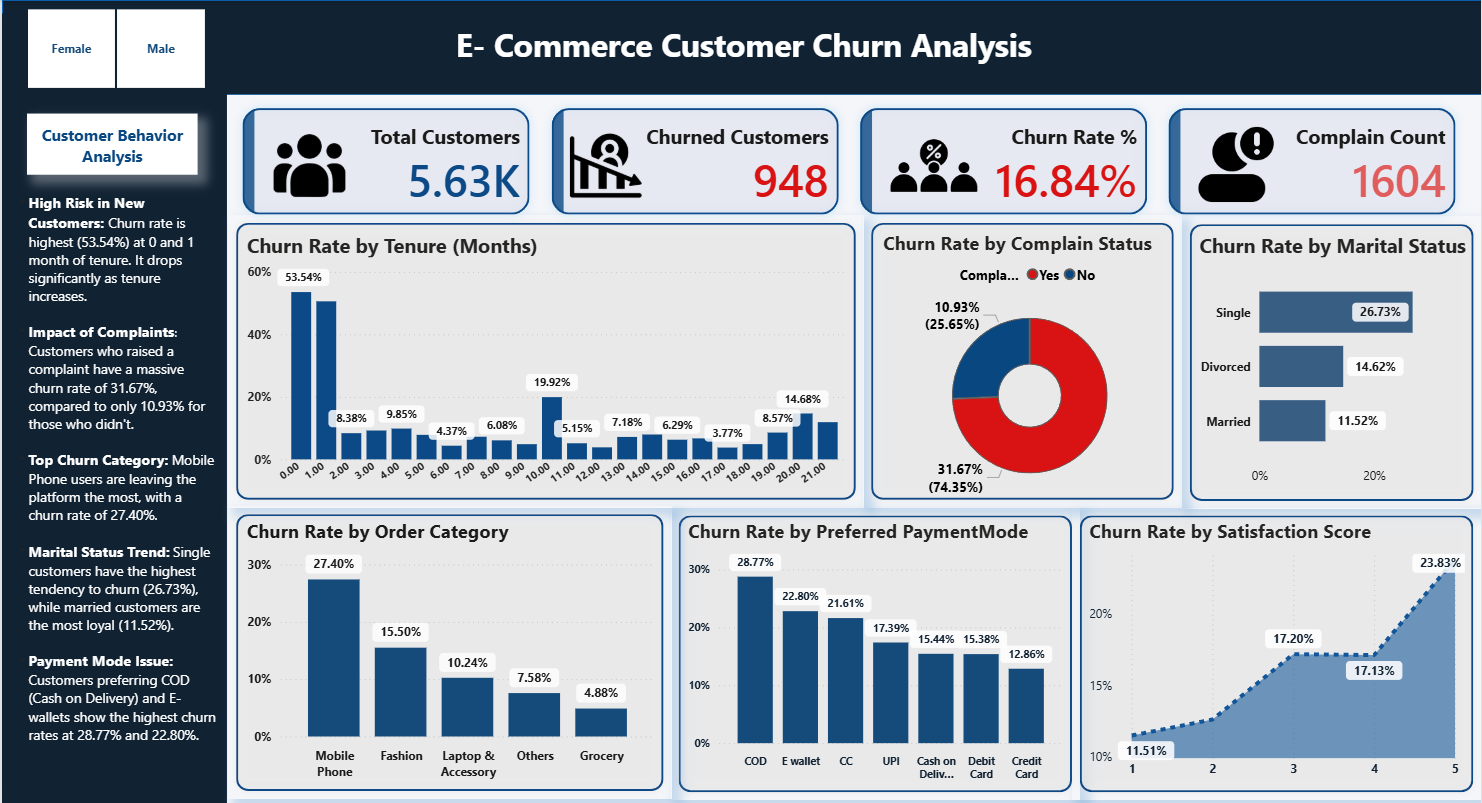

The dashboard page shown, as its layout file describes it:
{"tool":"powerbi","page":{"name":"Overview & Demographics","canvas":[1500,820],"ordinal":0},"visuals":[{"type":"shape","box":[0,0,1599.9,96.4],"z":0},{"type":"shape","box":[0,13.7,228.1,806.5],"z":1000},{"type":"textbox","box":[455.1,19,741.7,59.6],"z":2000},{"type":"cardVisual","fields":{"Data":["CountNonNull(E_Commerce.CustomerID)","Sum(E_Commerce.Churn)","E_Commerce.Churn Rate","Sum(E_Commerce.Complain)"]},"box":[228.1,93.4,1262.7,140.1],"z":3000},{"type":"image","box":[222.1,126.3,179.5,82.6],"z":4000},{"type":"image","box":[546.9,126.4,131.9,82.4],"z":5000},{"type":"image","box":[837.9,118.6,214.3,97.9],"z":6000},{"type":"image","box":[1178.9,115.4,148.4,100.3],"z":7000},{"type":"shape","box":[229.5,218.5,644.4,296.8],"z":8000},{"type":"columnChart","title":"Churn Rate by Tenure (Months)","fields":{"Y":["E_Commerce.Churn Rate"],"Category":["E_Commerce.Tenure"]},"box":[243.2,235,619.7,266.6],"z":9000},{"type":"shape","box":[873.9,218.5,322.9,296.8],"z":10000},{"type":"shape","box":[1196.8,219.8,303.7,296.8],"z":11000},{"type":"donutChart","fields":{"Y":["E_Commerce.Churn Rate"],"Category":["E_Commerce.Column Status"]},"box":[889,233.6,307.8,281.7],"z":12000},{"type":"shape","box":[678.8,515.3,414.9,296.8],"z":13000},{"type":"barChart","title":"Churn Rate by Marital Status","fields":{"Category":["E_Commerce.MaritalStatus"],"Y":["E_Commerce.Churn Rate"]},"box":[1209.1,235,281.7,266.6],"z":14000},{"type":"clusteredColumnChart","fields":{"Category":["E_Commerce.PreferredPaymentMode"],"Y":["E_Commerce.Churn Rate"]},"box":[691.1,526.2,390.2,274.8],"z":15000},{"type":"shape","box":[1085.5,515.3,414.9,296.8],"z":16000},{"type":"shape","box":[229.5,513.9,449.3,296.8],"z":17000},{"type":"lineChart","title":"Churn Rate by Satisfaction Score","fields":{"Category":["E_Commerce.SatisfactionScore"],"Y":["E_Commerce.Churn Rate"]},"box":[1098,526,391,272],"z":18000},{"type":"columnChart","title":"Churn Rate by Order Category","fields":{"Y":["E_Commerce.Churn Rate"],"Category":["E_Commerce.PreferedOrderCat"]},"box":[243.2,526.2,424.6,272.1],"z":19000},{"type":"slicer","fields":{"Values":["E_Commerce.Gender"]},"box":[0,2.7,229.5,93.4],"z":20000},{"type":"textbox","box":[4.1,189.6,218.5,622.4],"z":21000},{"type":"actionButton","box":[24.7,115.4,173.1,61.8],"z":21001}]}

Visuals, with their boxes in screenshot pixels (x1, y1, x2, y2), scaled from the page's 1500x820 canvas onto the 1482x803 screenshot:
shape: {"x1": 0, "y1": 0, "x2": 1481, "y2": 94}
shape: {"x1": 0, "y1": 13, "x2": 225, "y2": 802}
textbox: {"x1": 450, "y1": 19, "x2": 1182, "y2": 77}
cardVisual - CountNonNull(E_Commerce.CustomerID) x Sum(E_Commerce.Churn): {"x1": 225, "y1": 91, "x2": 1473, "y2": 229}
image: {"x1": 219, "y1": 124, "x2": 397, "y2": 205}
image: {"x1": 540, "y1": 124, "x2": 671, "y2": 204}
image: {"x1": 828, "y1": 116, "x2": 1040, "y2": 212}
image: {"x1": 1165, "y1": 113, "x2": 1311, "y2": 211}
shape: {"x1": 227, "y1": 214, "x2": 863, "y2": 505}
"Churn Rate by Tenure (Months)" columnChart: {"x1": 240, "y1": 230, "x2": 853, "y2": 491}
shape: {"x1": 863, "y1": 214, "x2": 1182, "y2": 505}
shape: {"x1": 1182, "y1": 215, "x2": 1481, "y2": 506}
donutChart - E_Commerce.Churn Rate x E_Commerce.Column Status: {"x1": 878, "y1": 229, "x2": 1182, "y2": 505}
shape: {"x1": 671, "y1": 505, "x2": 1081, "y2": 795}
"Churn Rate by Marital Status" barChart: {"x1": 1195, "y1": 230, "x2": 1473, "y2": 491}
clusteredColumnChart - E_Commerce.PreferredPaymentMode x E_Commerce.Churn Rate: {"x1": 683, "y1": 515, "x2": 1068, "y2": 784}
shape: {"x1": 1072, "y1": 505, "x2": 1481, "y2": 795}
shape: {"x1": 227, "y1": 503, "x2": 671, "y2": 794}
"Churn Rate by Satisfaction Score" lineChart: {"x1": 1085, "y1": 515, "x2": 1471, "y2": 781}
"Churn Rate by Order Category" columnChart: {"x1": 240, "y1": 515, "x2": 660, "y2": 782}
slicer - E_Commerce.Gender: {"x1": 0, "y1": 3, "x2": 227, "y2": 94}
textbox: {"x1": 4, "y1": 186, "x2": 220, "y2": 795}
actionButton: {"x1": 24, "y1": 113, "x2": 195, "y2": 174}
